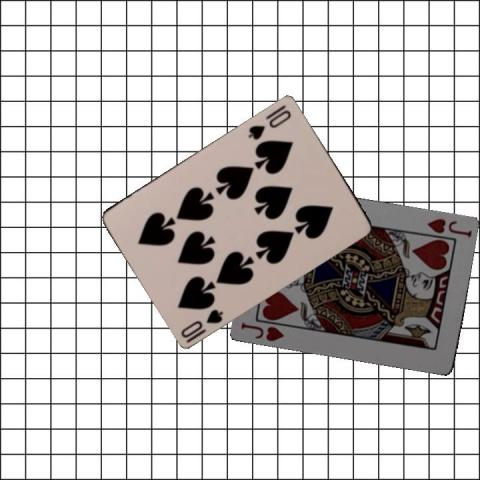10s: (245, 106, 293, 141), (178, 305, 225, 339)
Jh: (424, 215, 474, 239), (238, 318, 286, 343)
